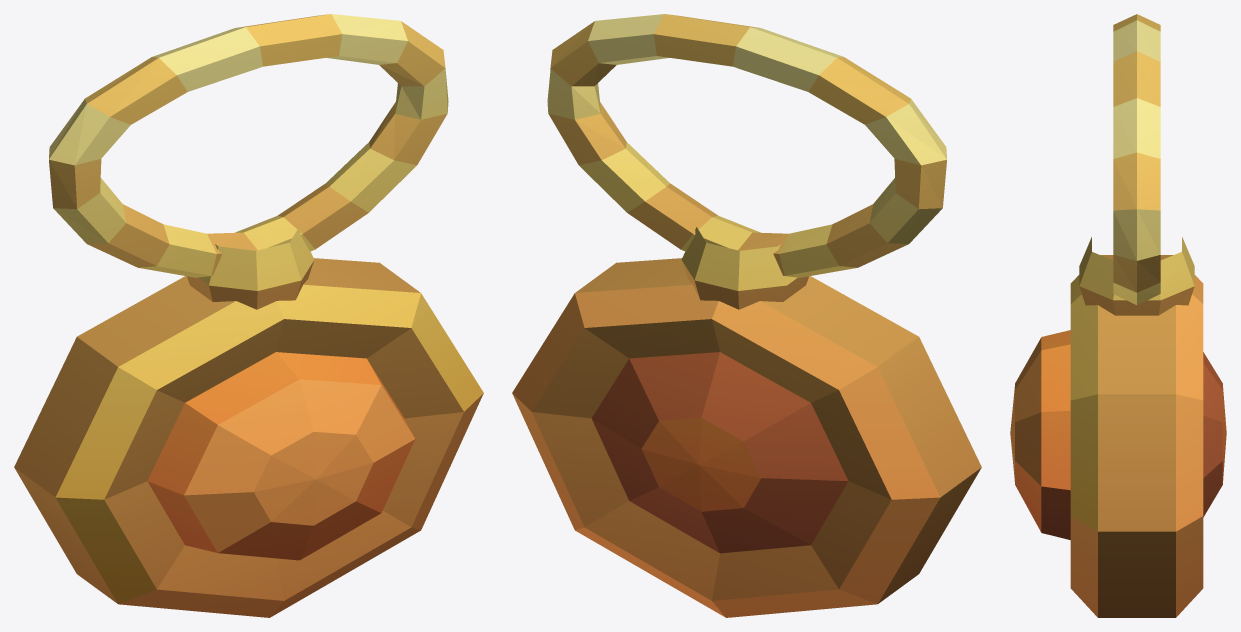
The model's file is source.glb.
3 renders of one model, left to right at view 1: azimuth 30°, elevation 25°; view 2: azimuth 150°, elevation 25°; view 3: azimuth 270°, elevation 25°, orthographic. The views are drawn at different scales.
Visible parts, largest first — view 1: model; view 2: model; view 3: model.
Part boxes in pixels (x1,y1,x2,y2): model: (14, 14, 483, 617); model: (512, 14, 981, 617); model: (1010, 14, 1226, 617).
Size of the model in its own units: 0.56 by 0.72 by 0.26.
Materials: 1 (1 with a texture image).
